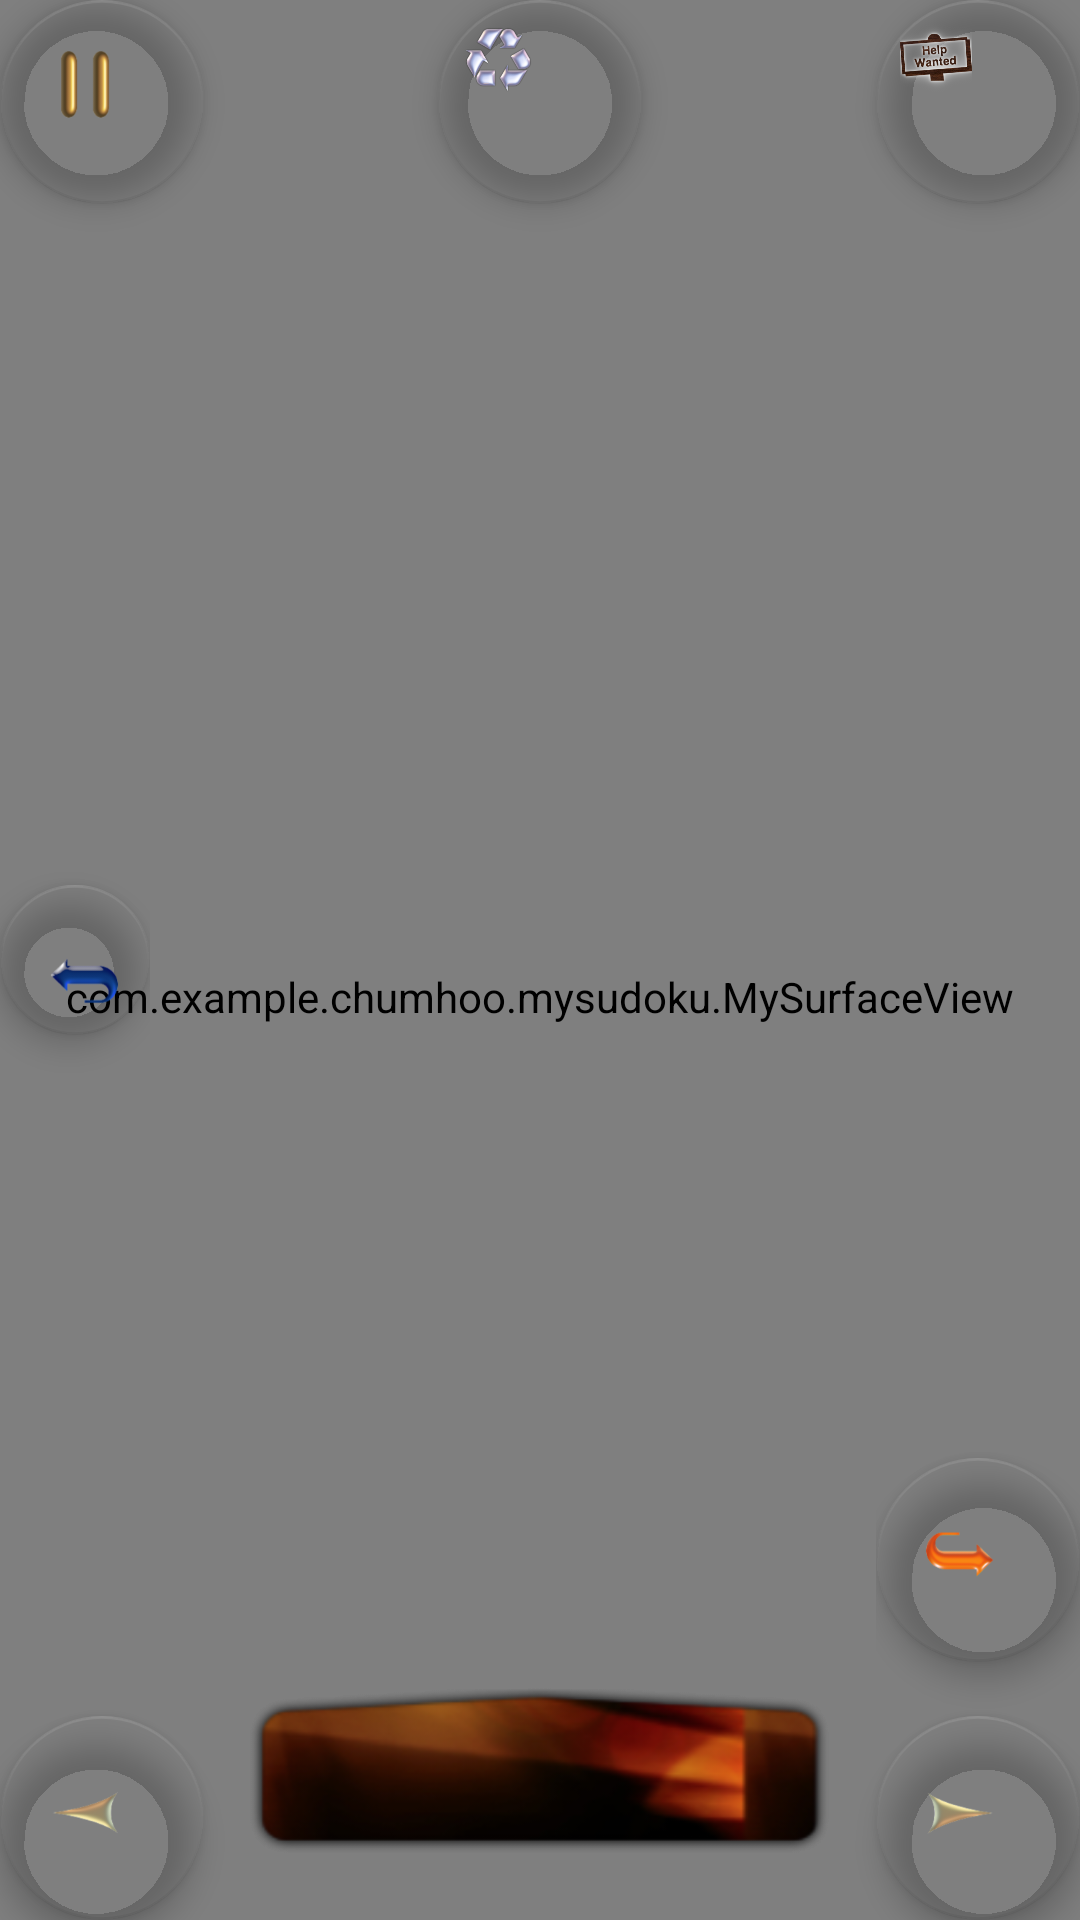

Icon bounding boxes for this 1080px x 1920px phone screenshot, format (x1, y1, x2, y2):
refresh: (466, 28, 530, 91)
